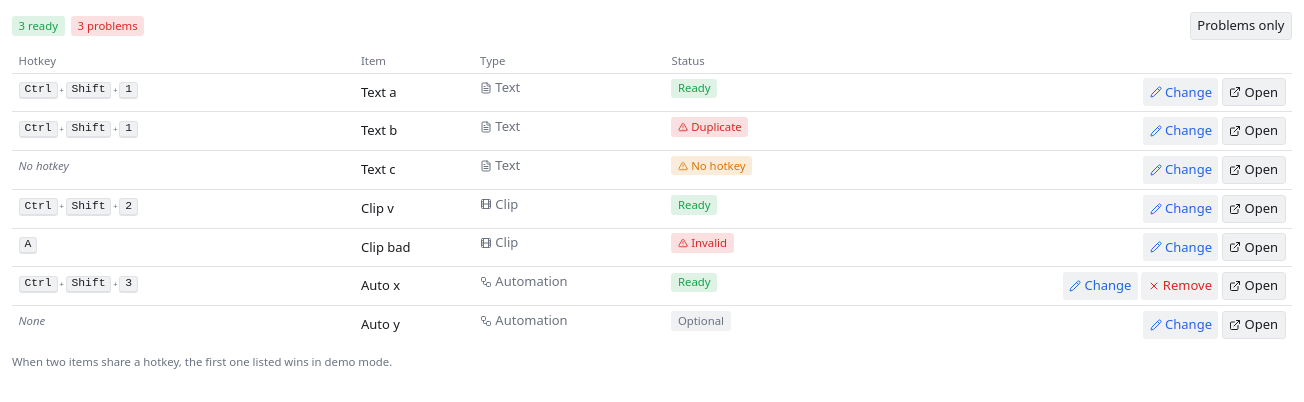
HotkeysTable › rejects a combo another item already uses
Step 1. Click the button with test id "hotkey-change-c" → (1181, 170), box x1=1143 y1=156 x2=1218 y2=184
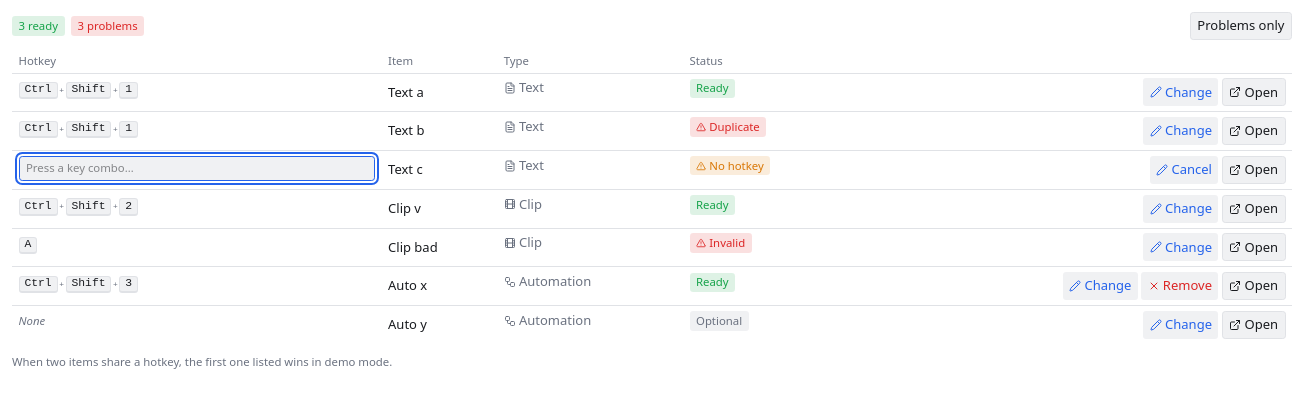
Step 2. Press 2 in the field with test id "hotkey-capture-c", box x1=18 y1=156 x2=375 y2=181
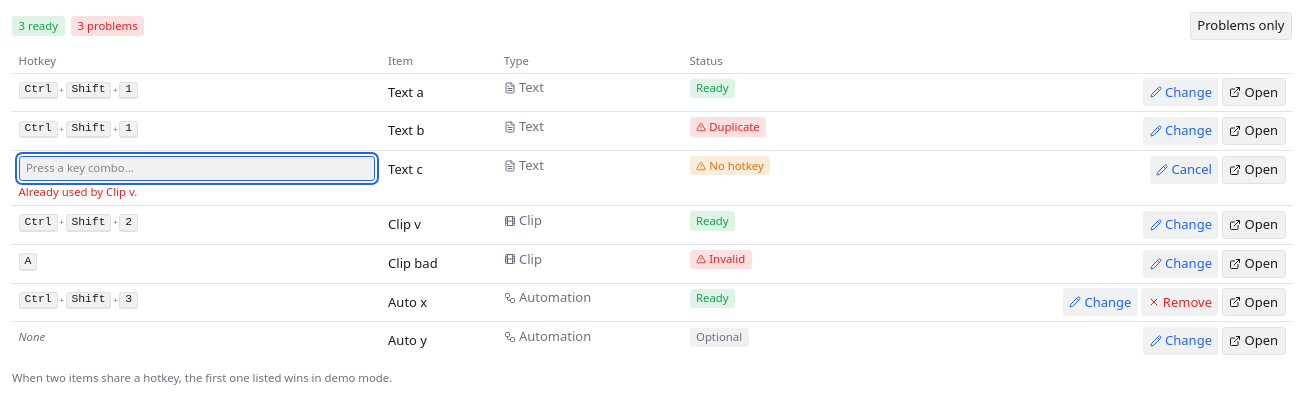
Now the message with test id "hotkey-error-c" shows "Clip v", box x1=18 y1=184 x2=137 y2=199
